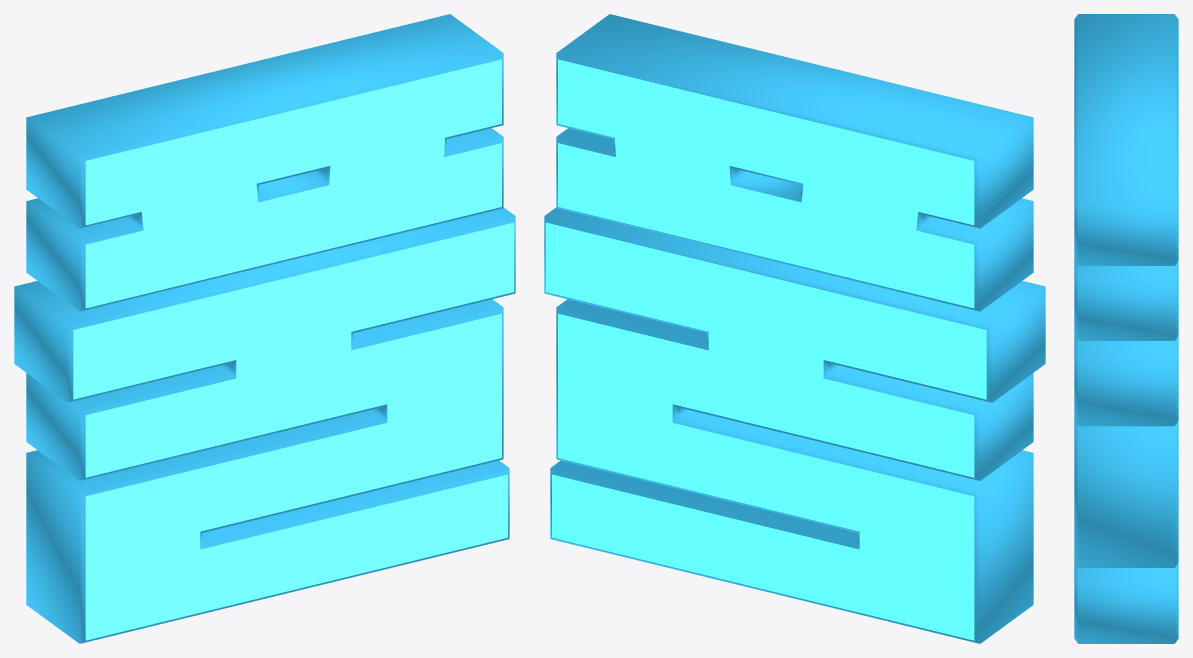
3 views of the same model, side by side, from view 1: azimuth 30°, elevation 25°; view 2: azimuth 150°, elevation 25°; view 3: azimuth 270°, elevation 25° (orthographic). The views are drawn at different scales.
Parts seen in each view (by area): view 1: glyph; view 2: glyph; view 3: glyph.
Part boxes in pixels (x1,y1,x2,y2): glyph: (14,14,515,643); glyph: (544,14,1045,643); glyph: (1074,14,1178,643).
Size of the model in its own units: 0.0728 by 0.0757 by 0.0162.
